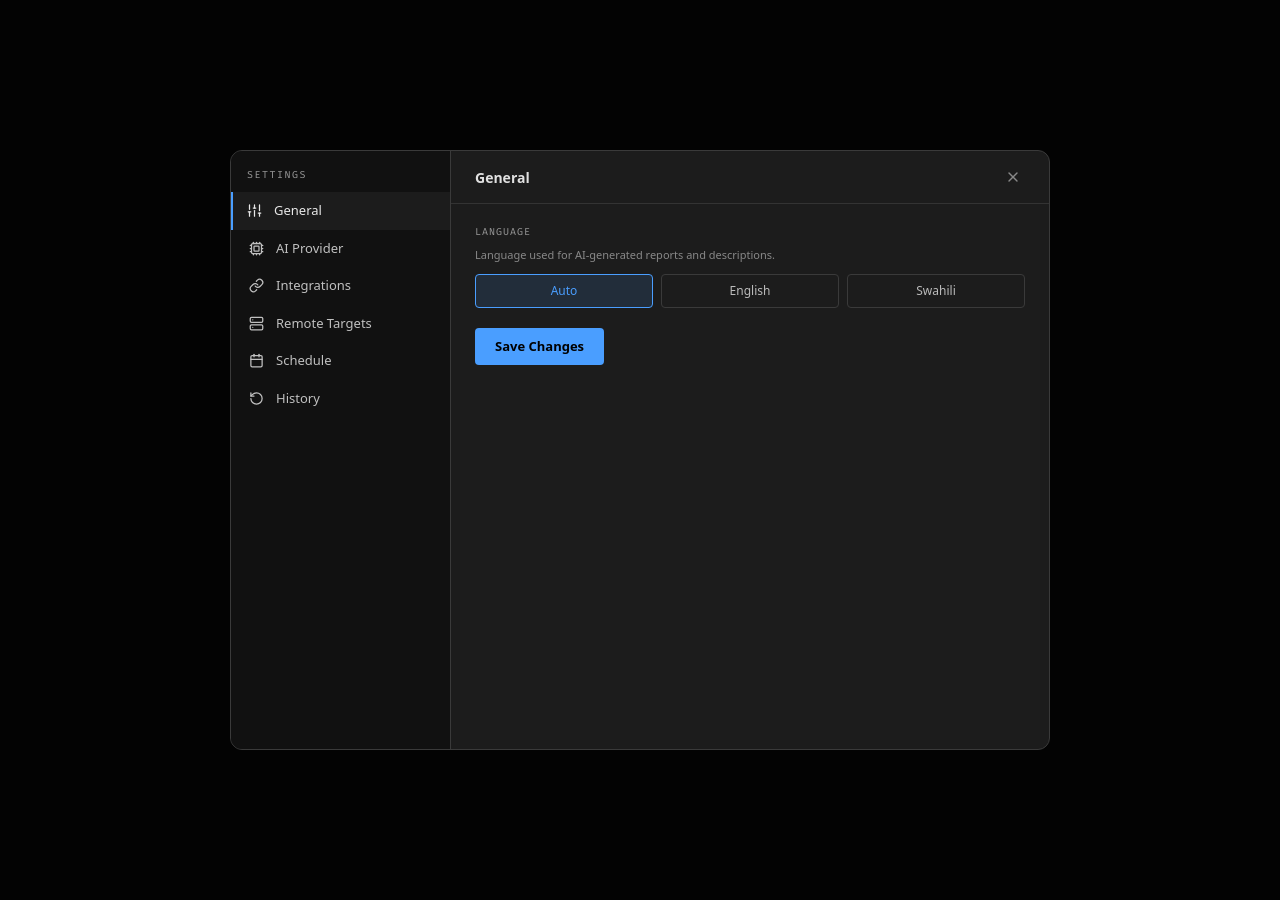
Test: SettingsModal nav › switches to Remote Targets section
Click the button "Remote Targets" at (340, 323), box [231,304,450,342]
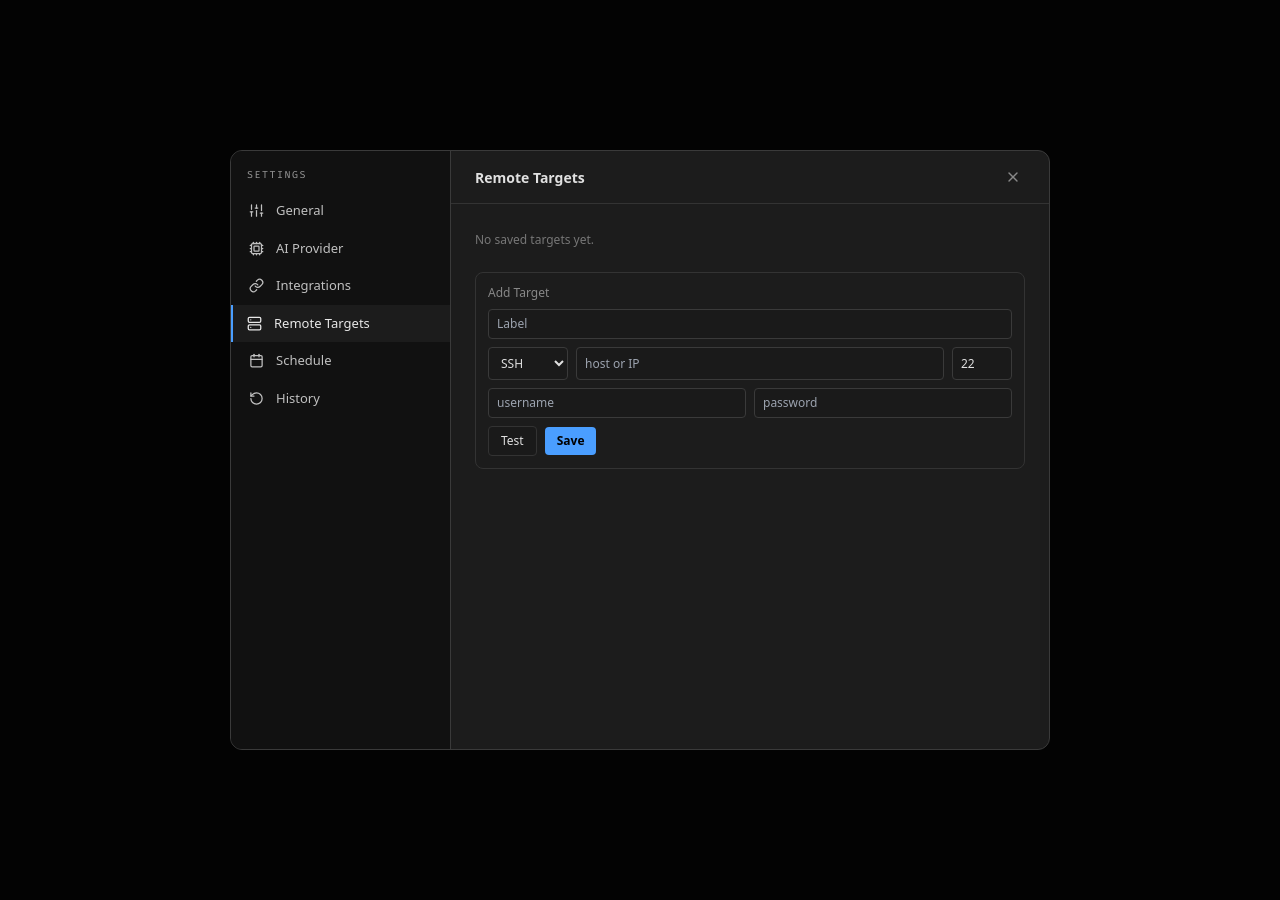
Expected: the text "Add Target" is shown, [488,284,549,301]
